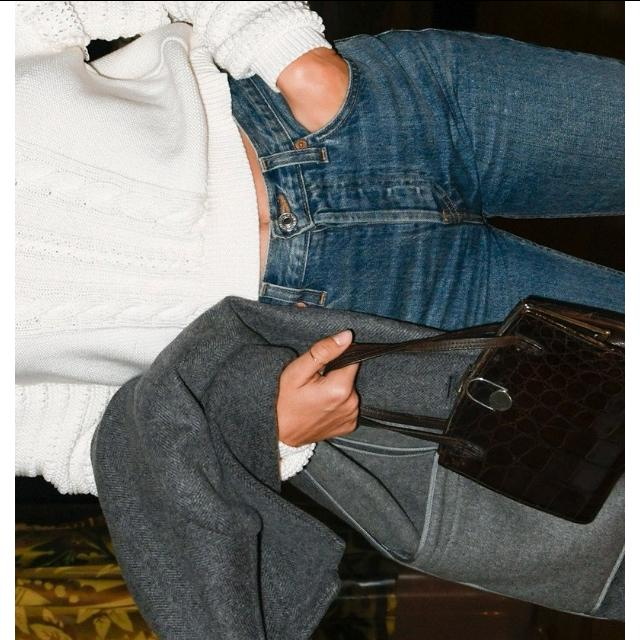denim: (362, 27, 624, 293)
